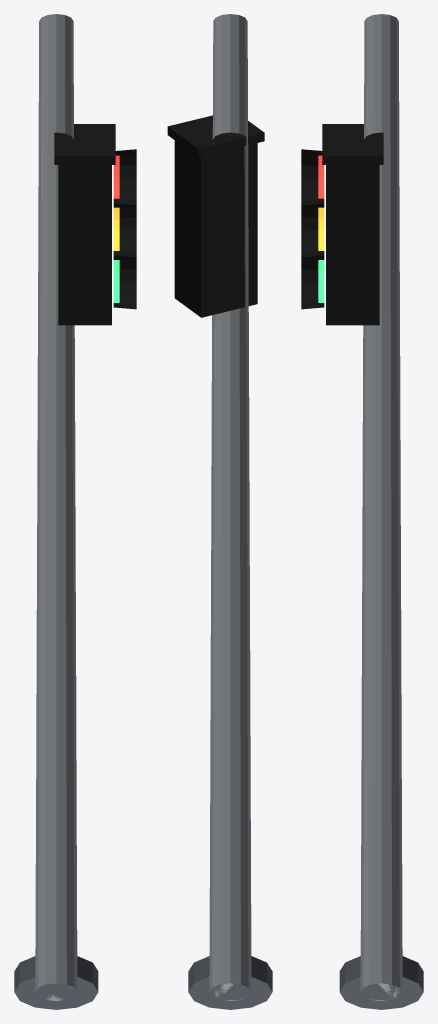
The model's file is signal-post.glb.
The picture shows the model from 3 angles, left to right: view 1: azimuth 90°, elevation 25°; view 2: azimuth 210°, elevation 25°; view 3: azimuth 270°, elevation 25°; orthographic projection.
Visible parts, largest first — view 1: signal-post; view 2: signal-post; view 3: signal-post.
Part boxes in pixels (x1=…): signal-post: x1=14, y1=14, x2=136, y2=1009; signal-post: x1=167, y1=14, x2=272, y2=1009; signal-post: x1=301, y1=14, x2=423, y2=1009.
Size of the model in its own units: 0.44 by 5.6 by 0.64.
